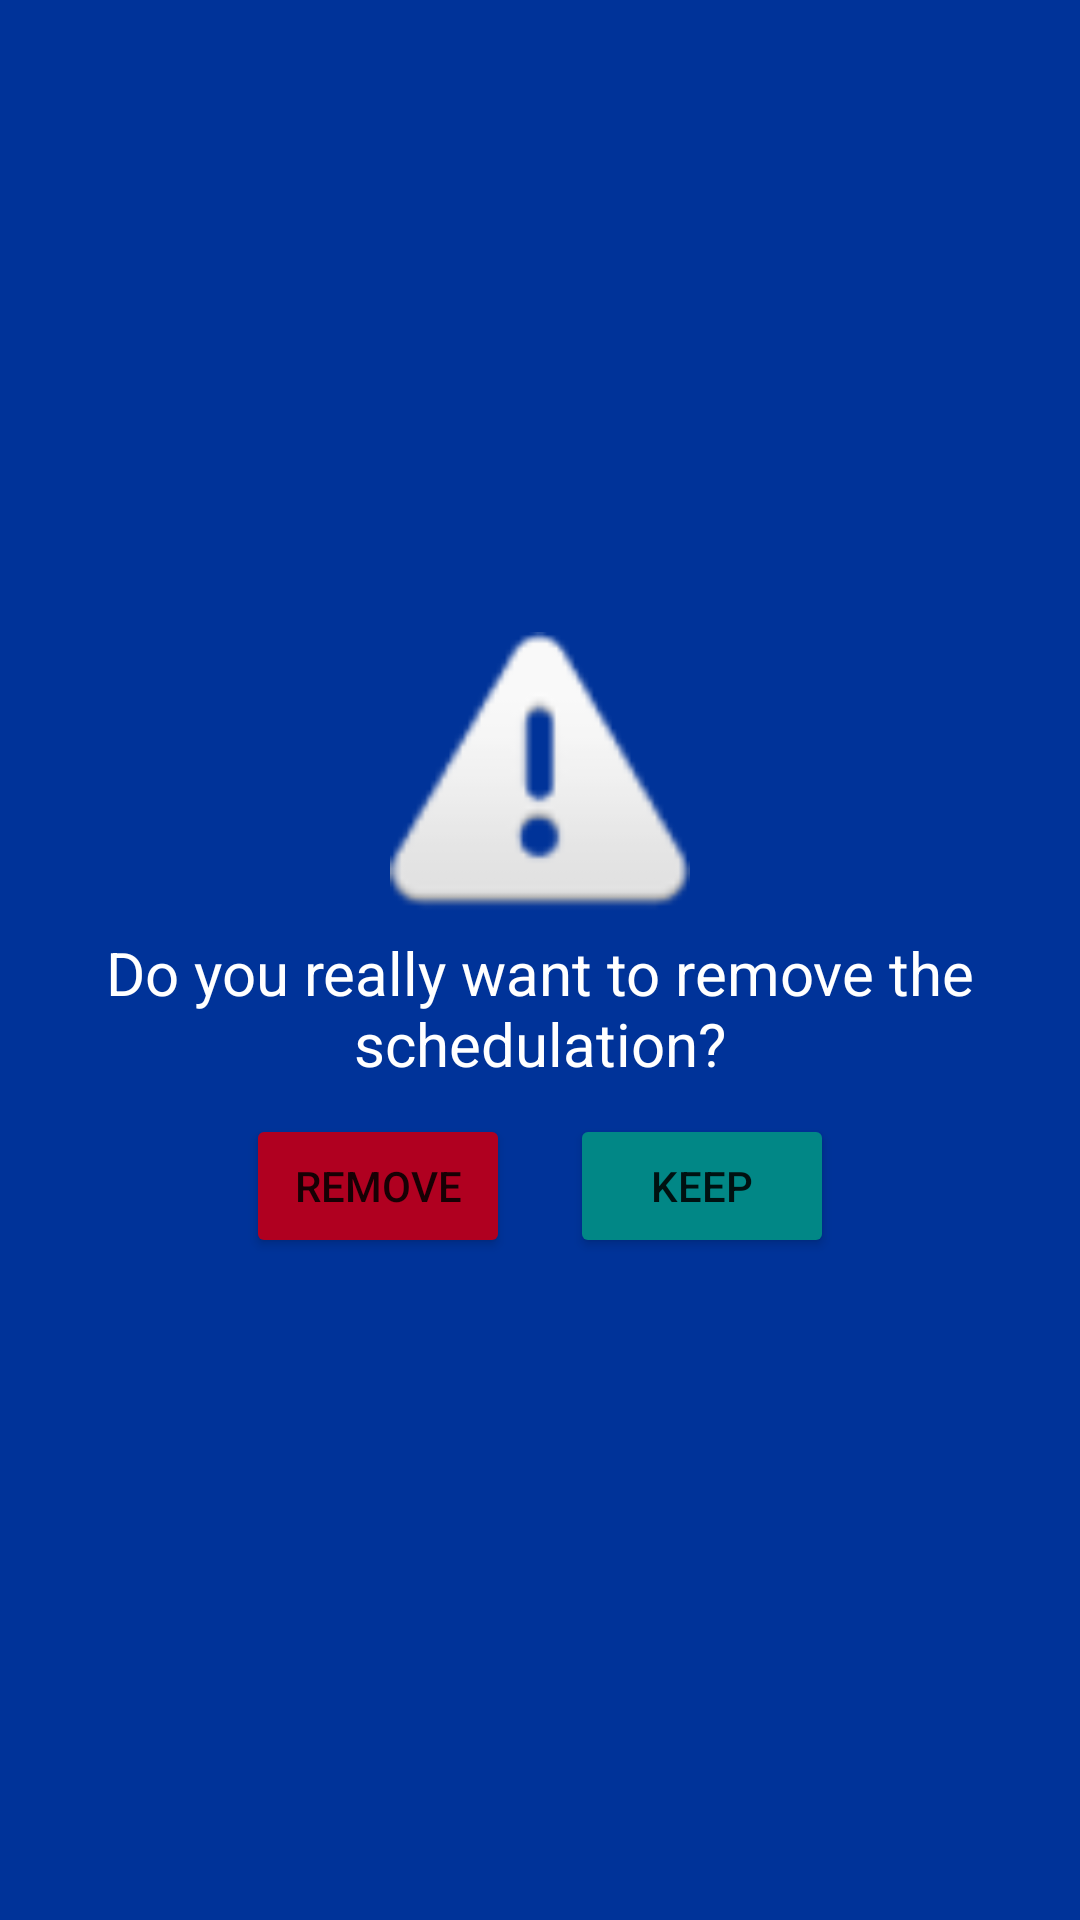

Icons on this 1080*1920 Android screen, each with the point to tap as (x=x, y=y):
alert: (x=540, y=768)
